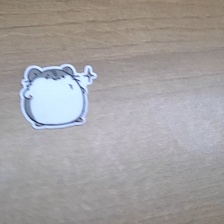mouse: (20, 58, 97, 132)
